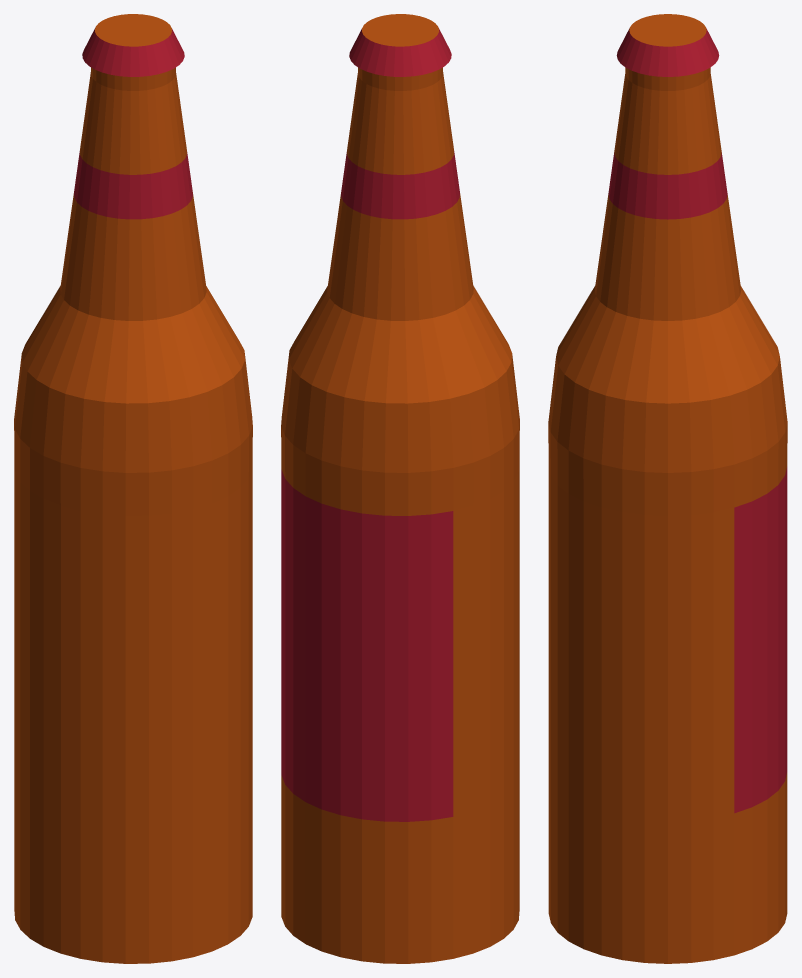
File: bottle.fbx
3 views of the same model, side by side, from view 1: azimuth 30°, elevation 25°; view 2: azimuth 150°, elevation 25°; view 3: azimuth 270°, elevation 25° (orthographic).
Parts seen in each view (by area): view 1: Circle; view 2: Circle; view 3: Circle.
Boxes of the visible parts, bbox=[...] form: Circle: bbox=[14, 14, 252, 963]; Circle: bbox=[281, 14, 519, 963]; Circle: bbox=[548, 14, 787, 963].
Size of the model in its own units: 1.23 by 5 by 1.23.
